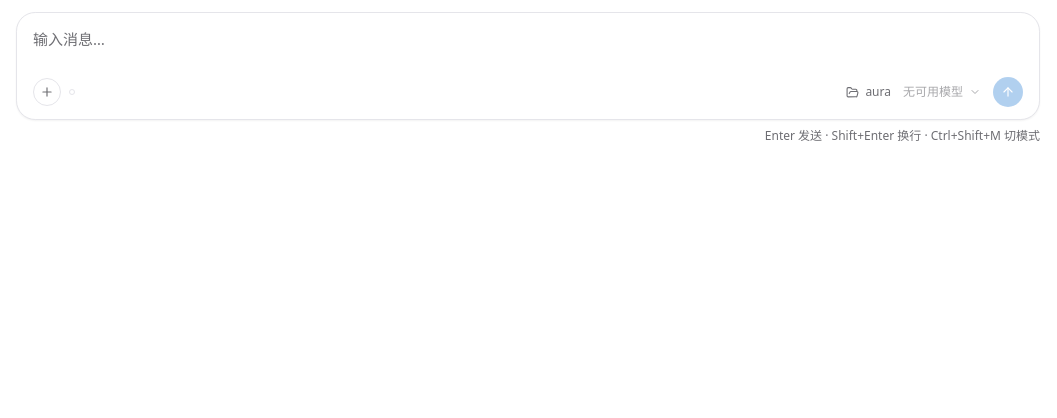
InputArea 的 MCP 提示词（M2-06） › / 面板列出提示词，选中后把展开内容插入输入框
Type "/" into the text box. click: (528, 49)
box: [33,25,1023,73]
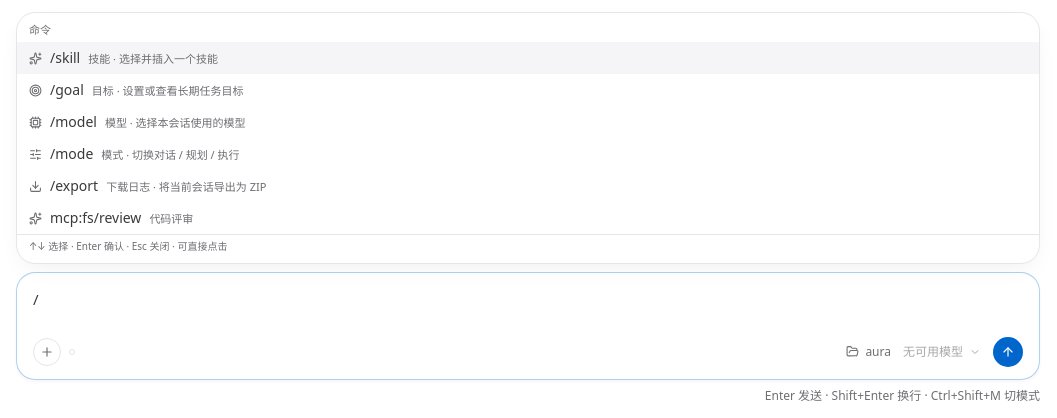
Click the text "mcp:fs/review". click: (96, 218)
box: [50,208,141,228]
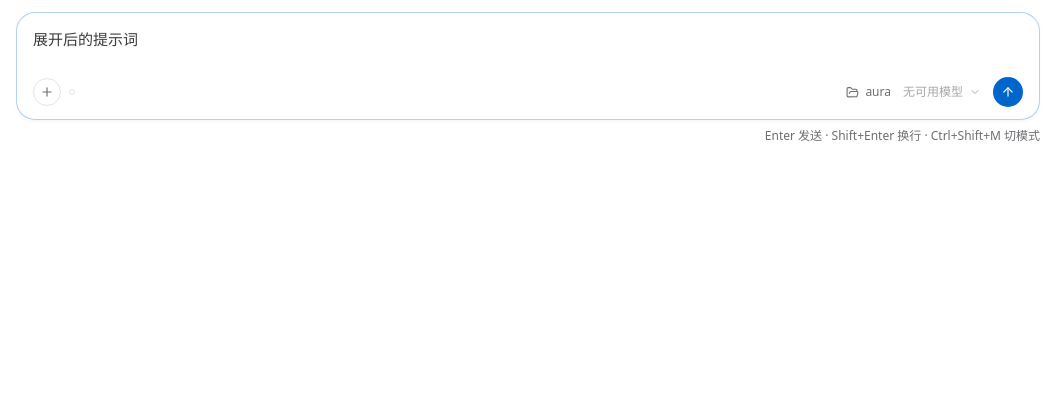
Result: the text box holds "展开后的提示词" at [33,25,1023,73]
